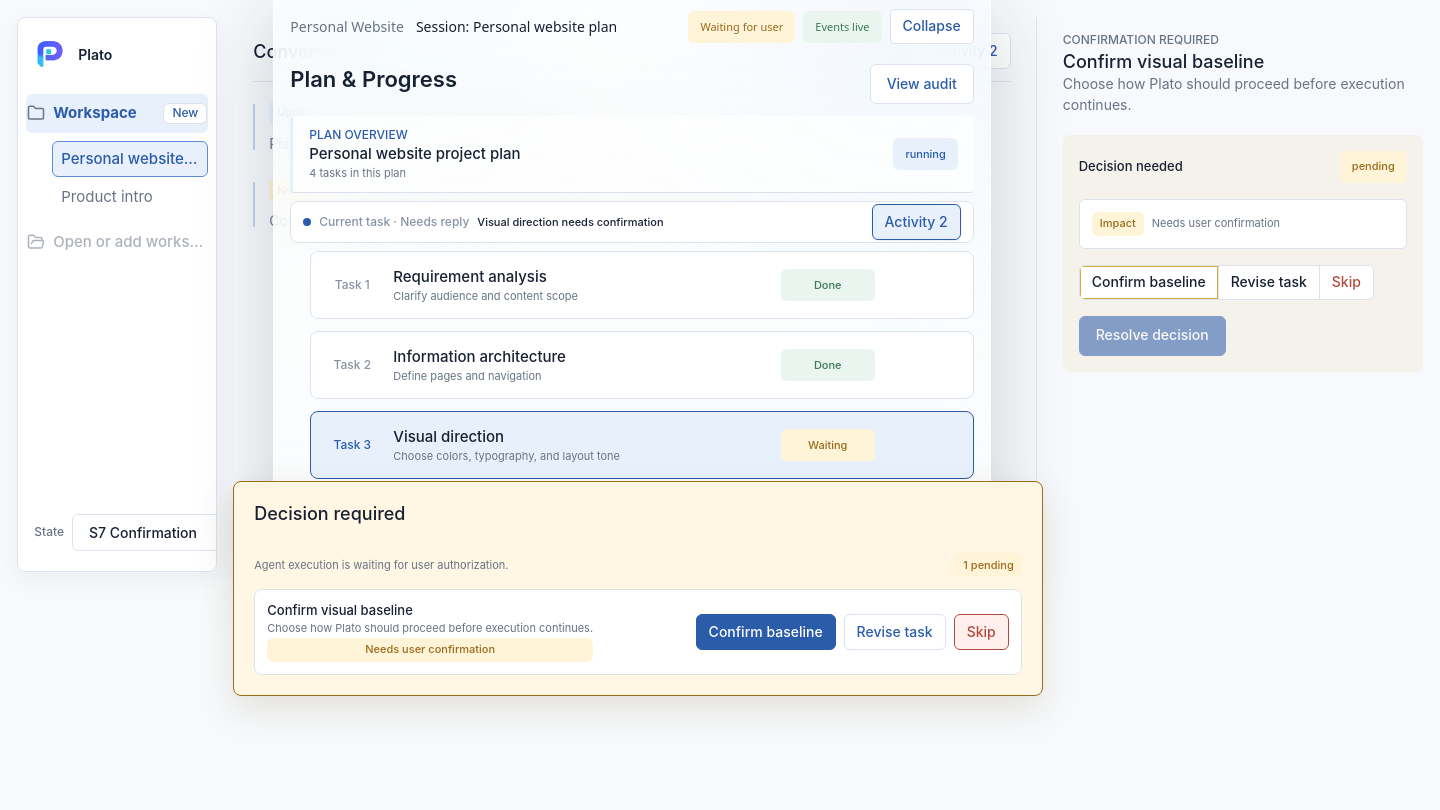
Test: App › shows command pending state while resolving a confirmation
Click the button "Confirm baseline" below "Impact" at (1149, 282), box [1080,266,1218,299]
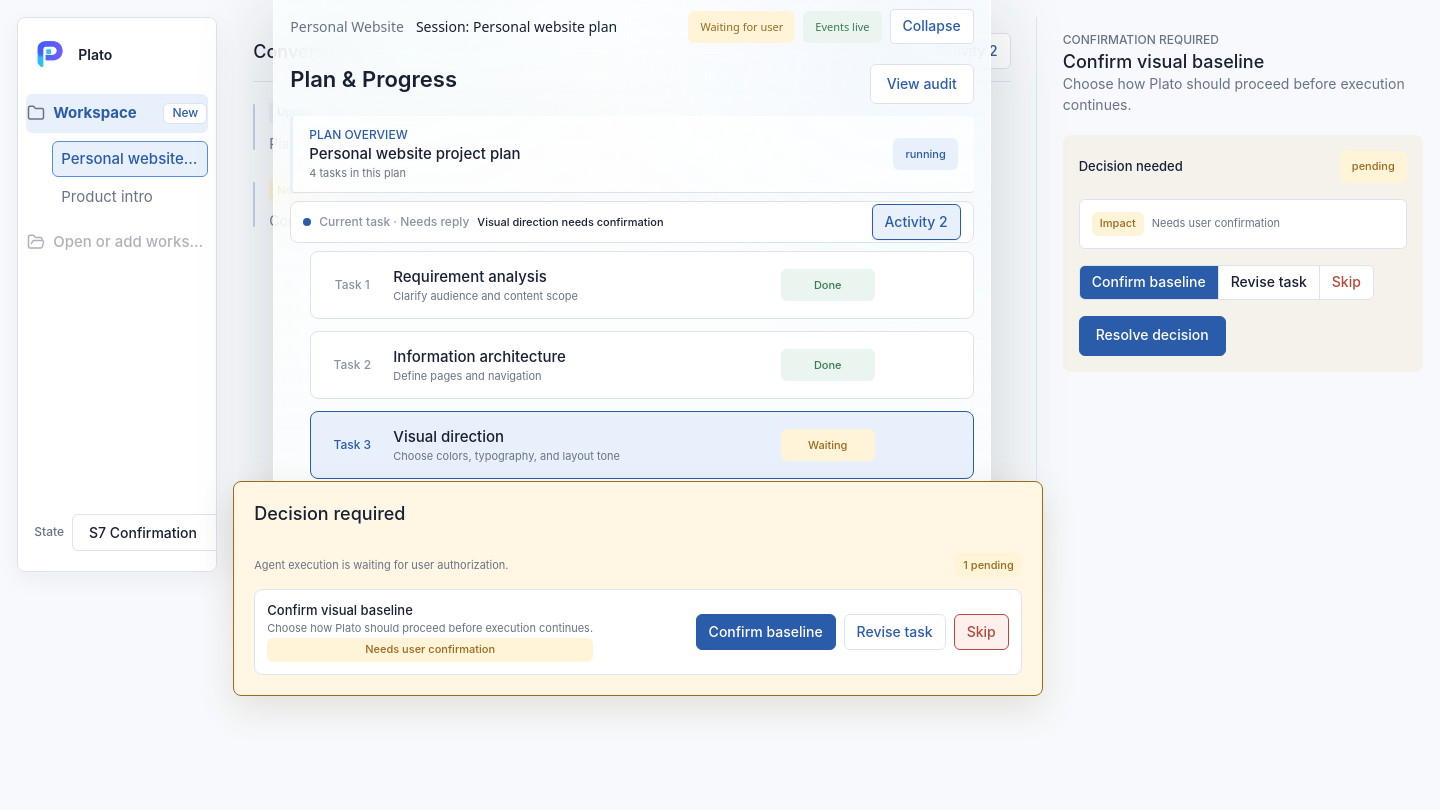
Click the button "Resolve decision" at (1152, 336), box [1079,316,1226,356]
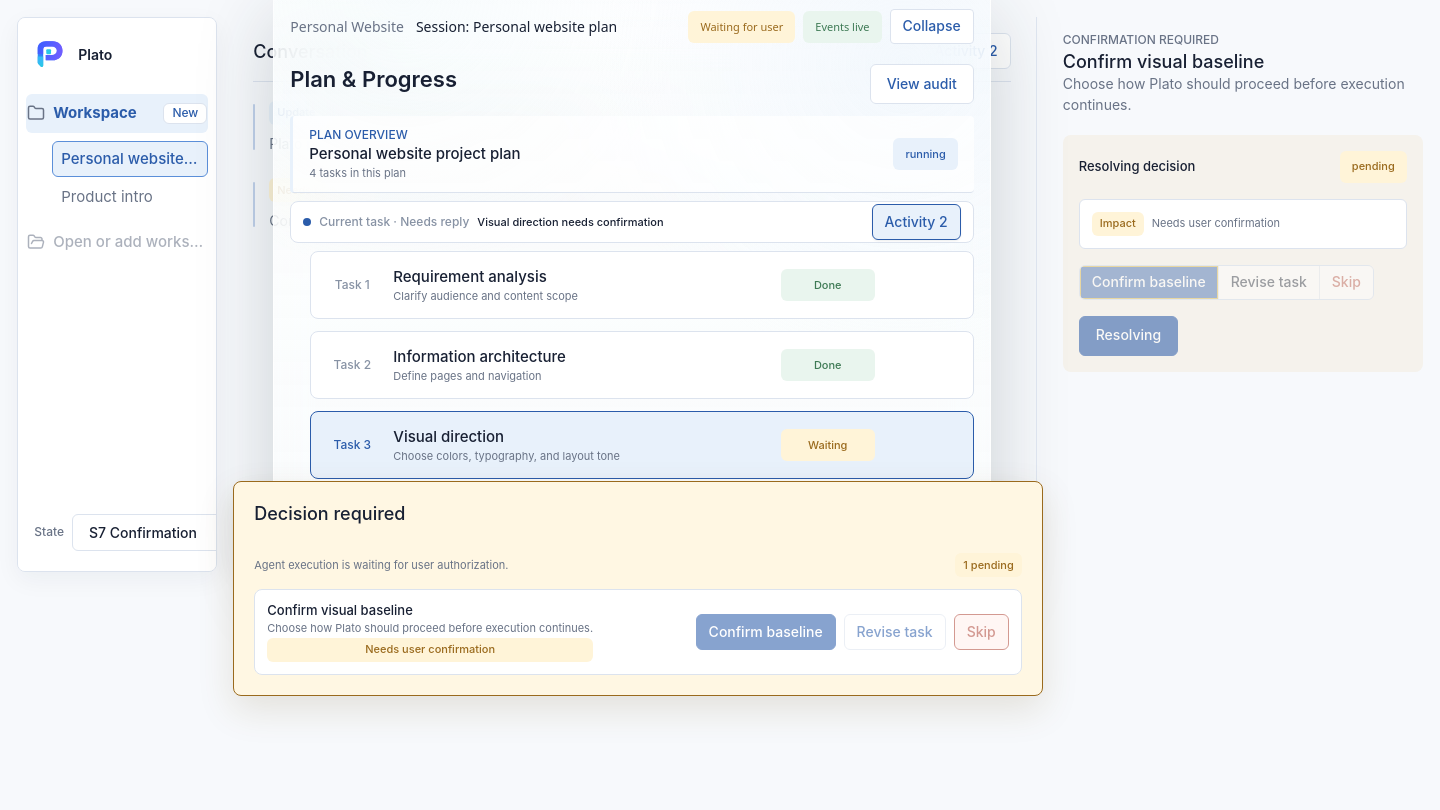
Now the text "Resolving decision" is shown, box [1079,158,1195,176]
Now the button "Resolving" is disabled, box [1079,316,1178,356]
